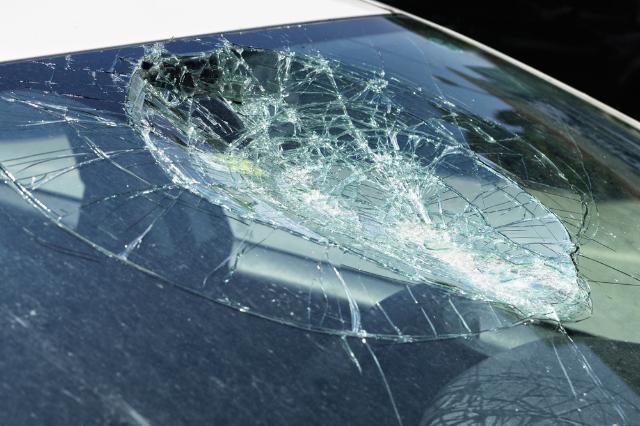glass shatter: (0, 13, 640, 426)
